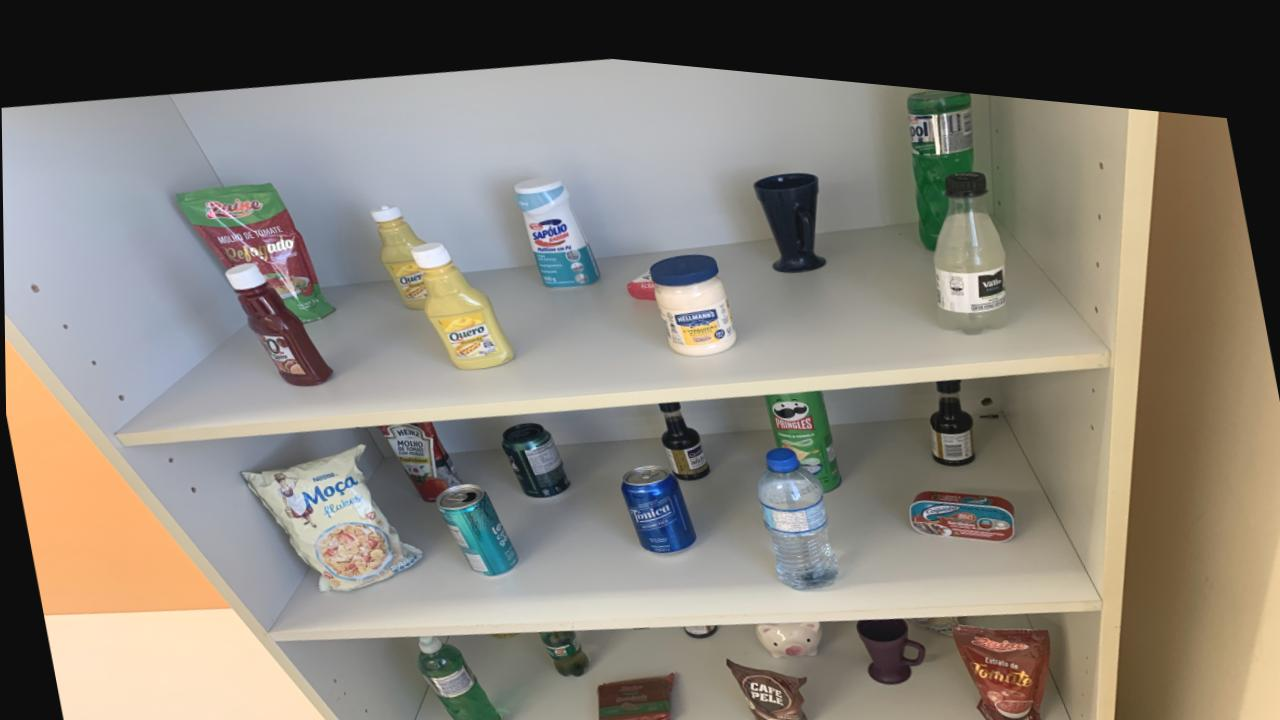Cleaner-Cleanup_Items: (513, 165, 600, 277)
Coffee-Pantry_Items: (723, 644, 805, 720)
Detergent-Cleanup_Items: (906, 69, 974, 231), (414, 627, 500, 720)
English_Sauce-Pantry_Items: (928, 360, 974, 447), (658, 388, 708, 466), (682, 610, 715, 624)
Flakes-Snacks: (240, 437, 420, 584)
Guarana-Drinks: (539, 618, 587, 665)
Guarana_Can-Drinks: (500, 412, 568, 486)
Guava-Snacks: (595, 659, 672, 720)
Ketchup-Pantry_Items: (225, 257, 331, 380)
Mayonnaise-Pantry_Items: (649, 239, 736, 342)
Mustard-Pantry_Items: (410, 233, 514, 360), (371, 197, 426, 301)
Pig_Safe-Miscellaneous: (753, 605, 821, 641)
Pringles-Snacks: (764, 374, 840, 474)
Soap-Cleanup_Items: (626, 258, 655, 287)
Soda-Drinks: (932, 151, 1007, 314)
Tea-Drinks: (434, 474, 516, 565)
Tomato_Sauce-Pantry_Items: (176, 177, 332, 315), (950, 605, 1049, 713), (378, 413, 461, 493)
Tonic-Drinks: (619, 452, 695, 539)
Tuna_Can-Pantry_Items: (907, 471, 1014, 521)
